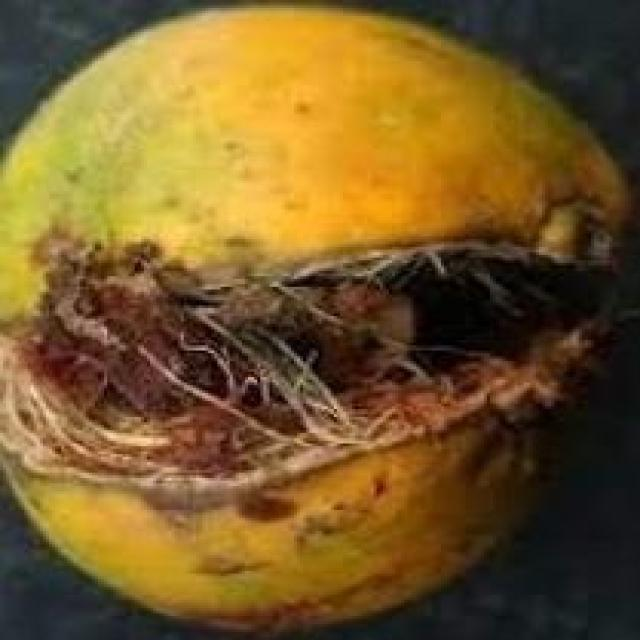damaged: (0, 3, 637, 637)
